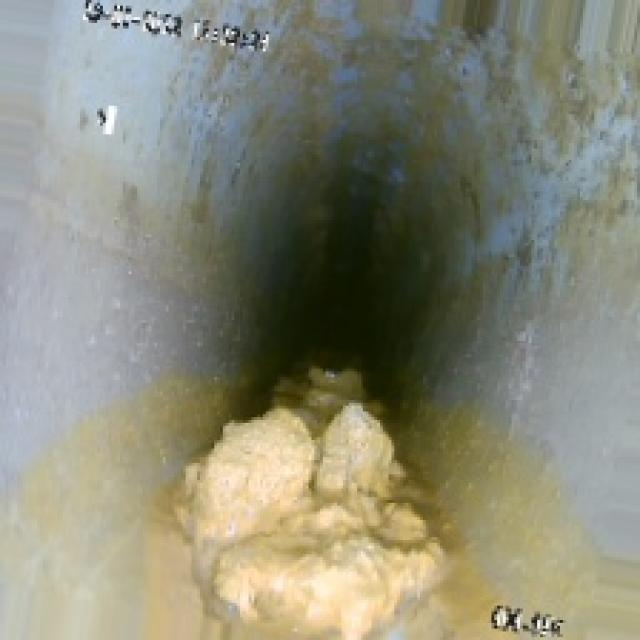sluge accumulation: (183, 352, 448, 628)
